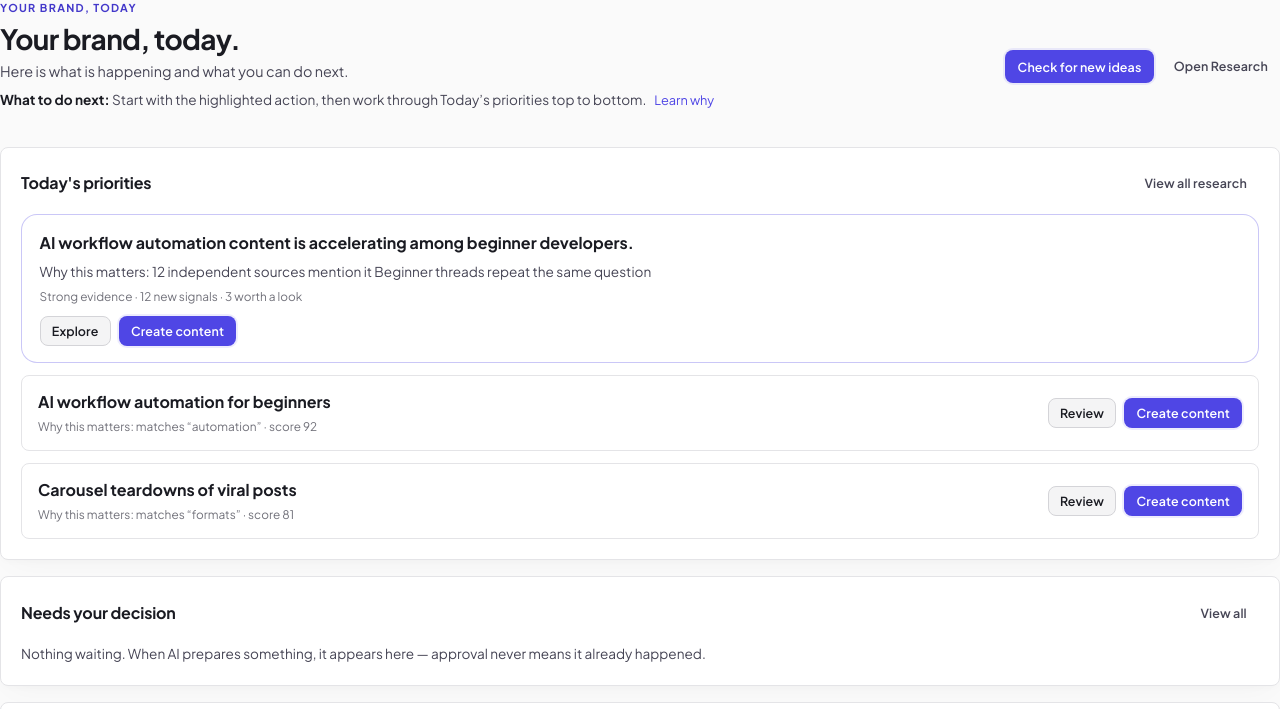
Test: OverviewPage briefing › checks for new ideas and reports the result
The width and height of the screenshot is (1280, 709).
Step 1. Click the button "Check for new ideas" → (1080, 66), box top-left (1005, 50), bottom-right (1154, 83)
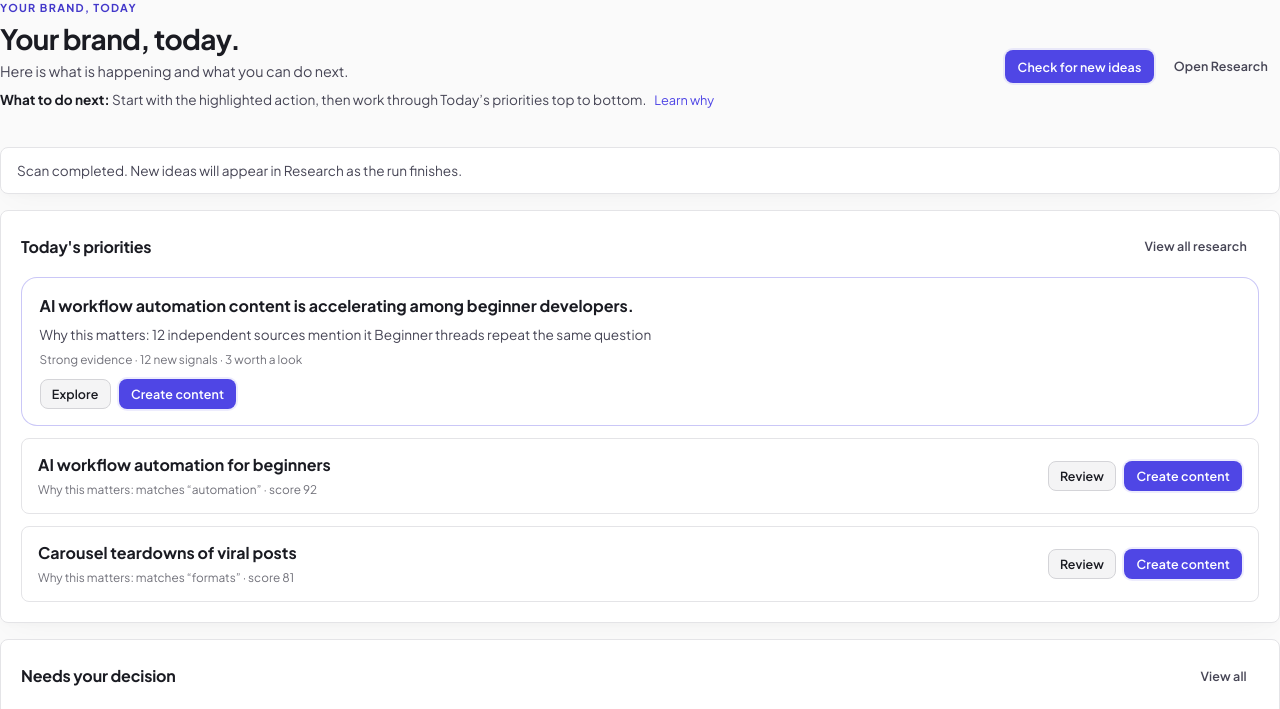
Result: the text "Scan completed" is shown at top-left (17, 162), bottom-right (462, 179)
